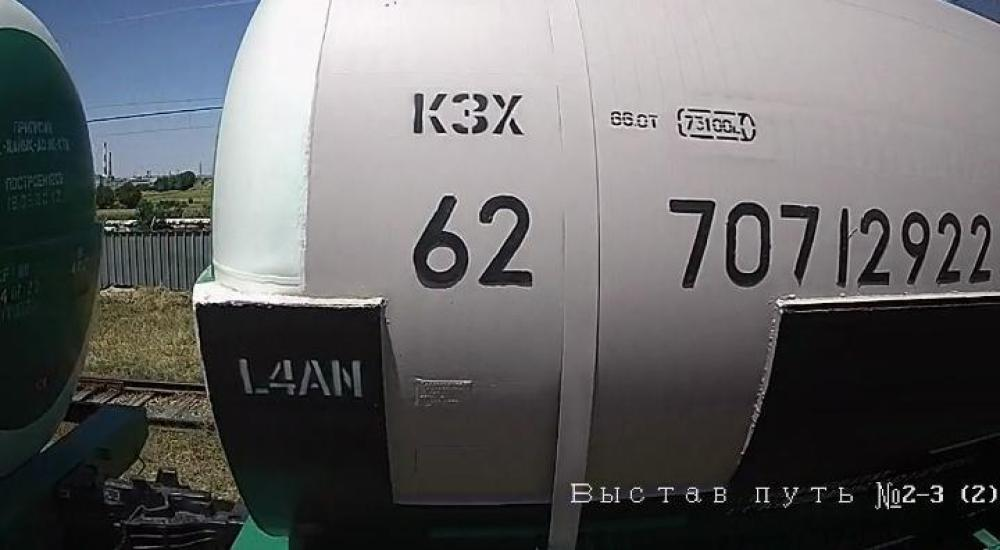Wagon-number: (660, 190, 994, 288)
